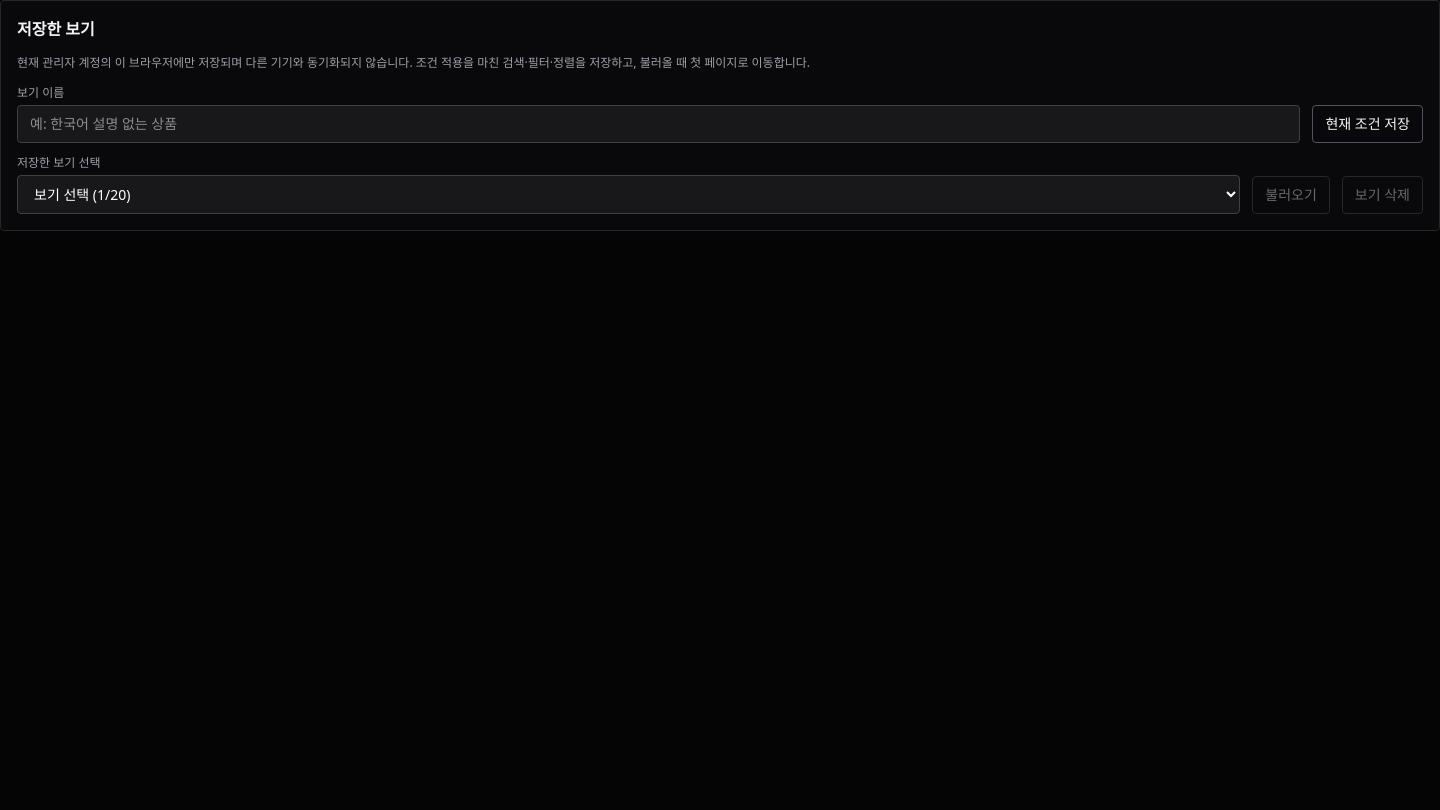
Scenario: named catalog views › closes deletion on Escape and restores the initiating button
Select "Original" in the dropdown labelled "저장한 보기 선택" at (629, 194), box [17,174,1240,214]
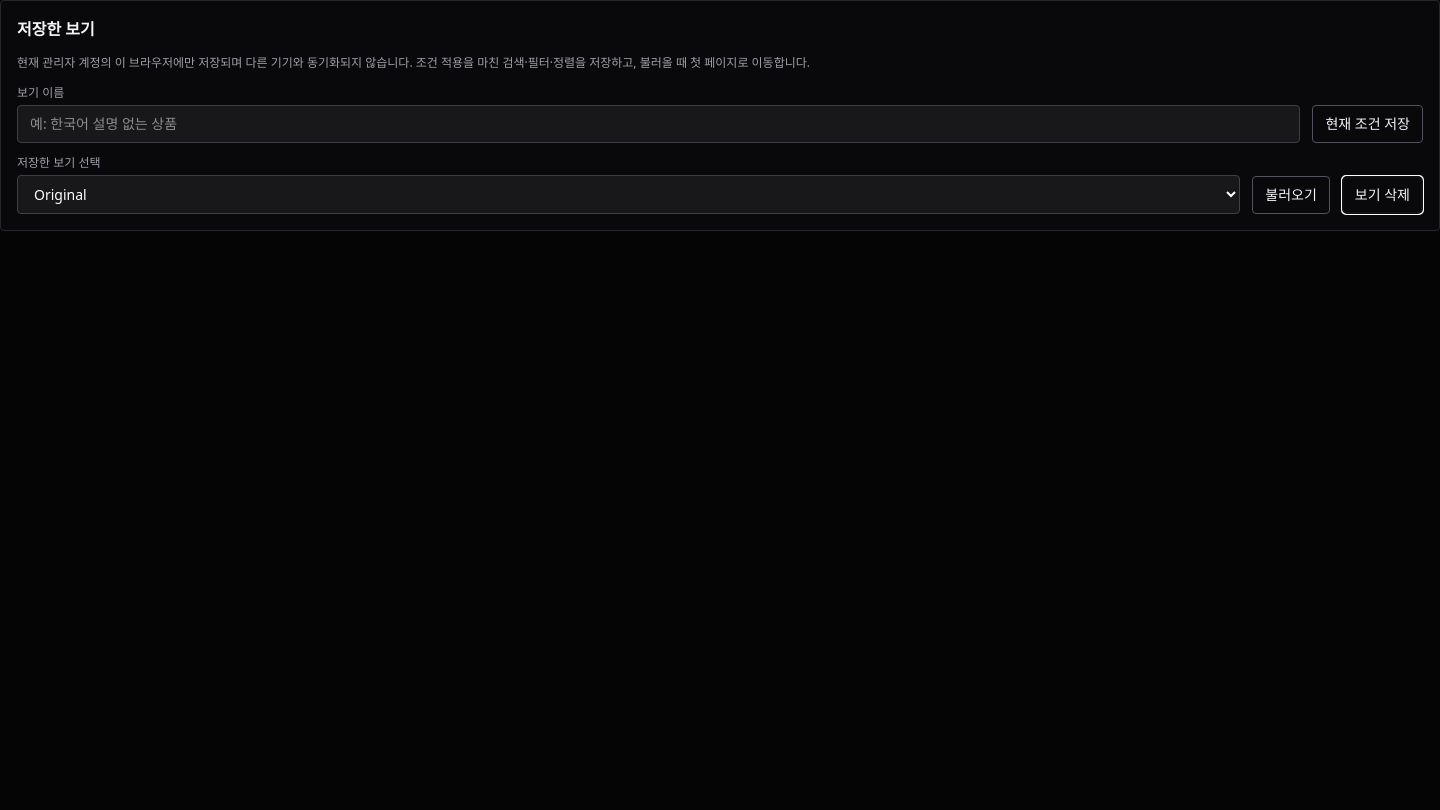
Click the button "보기 삭제" at (1382, 194), box [1342,176,1423,214]
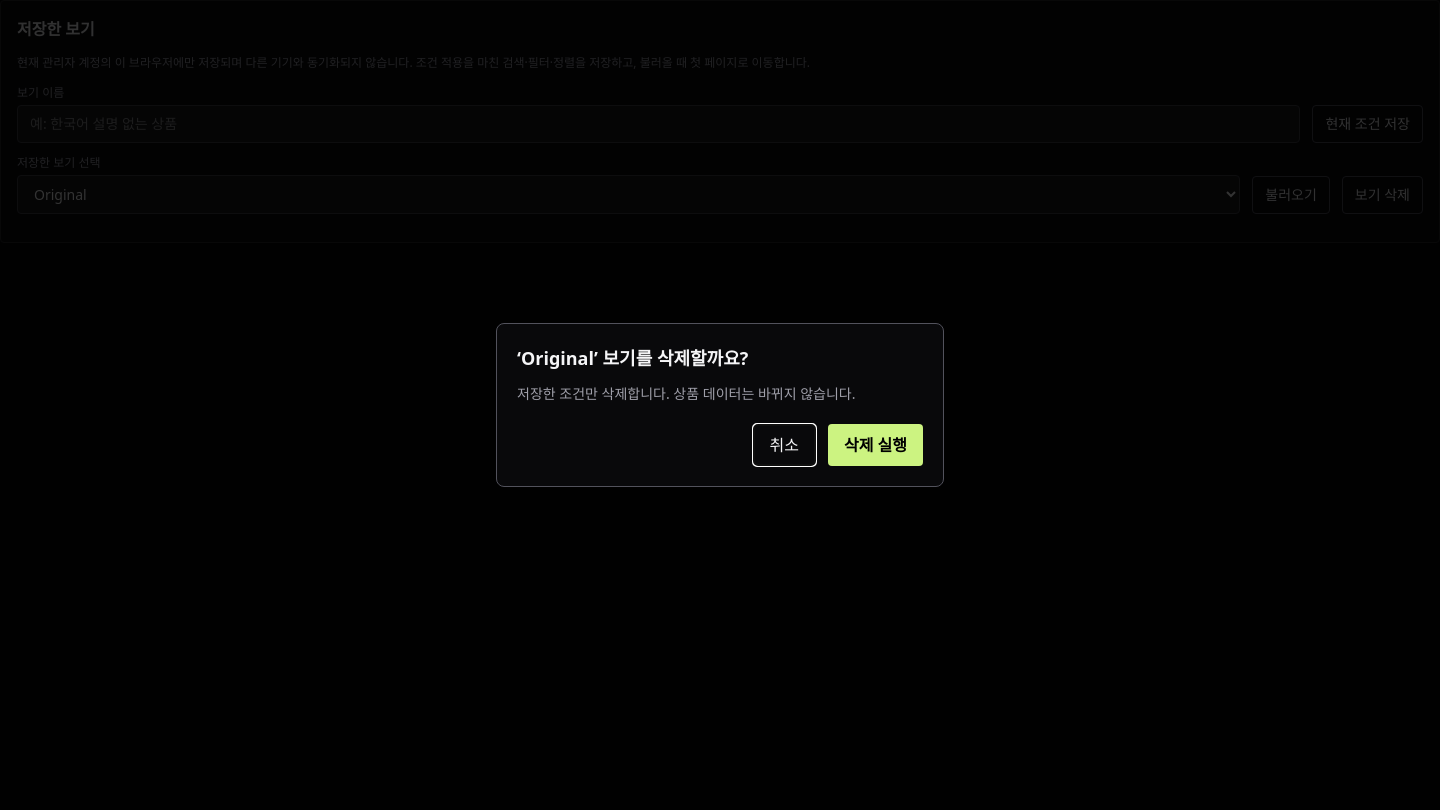
Press Escape in the dialog, box [496,323,944,487]
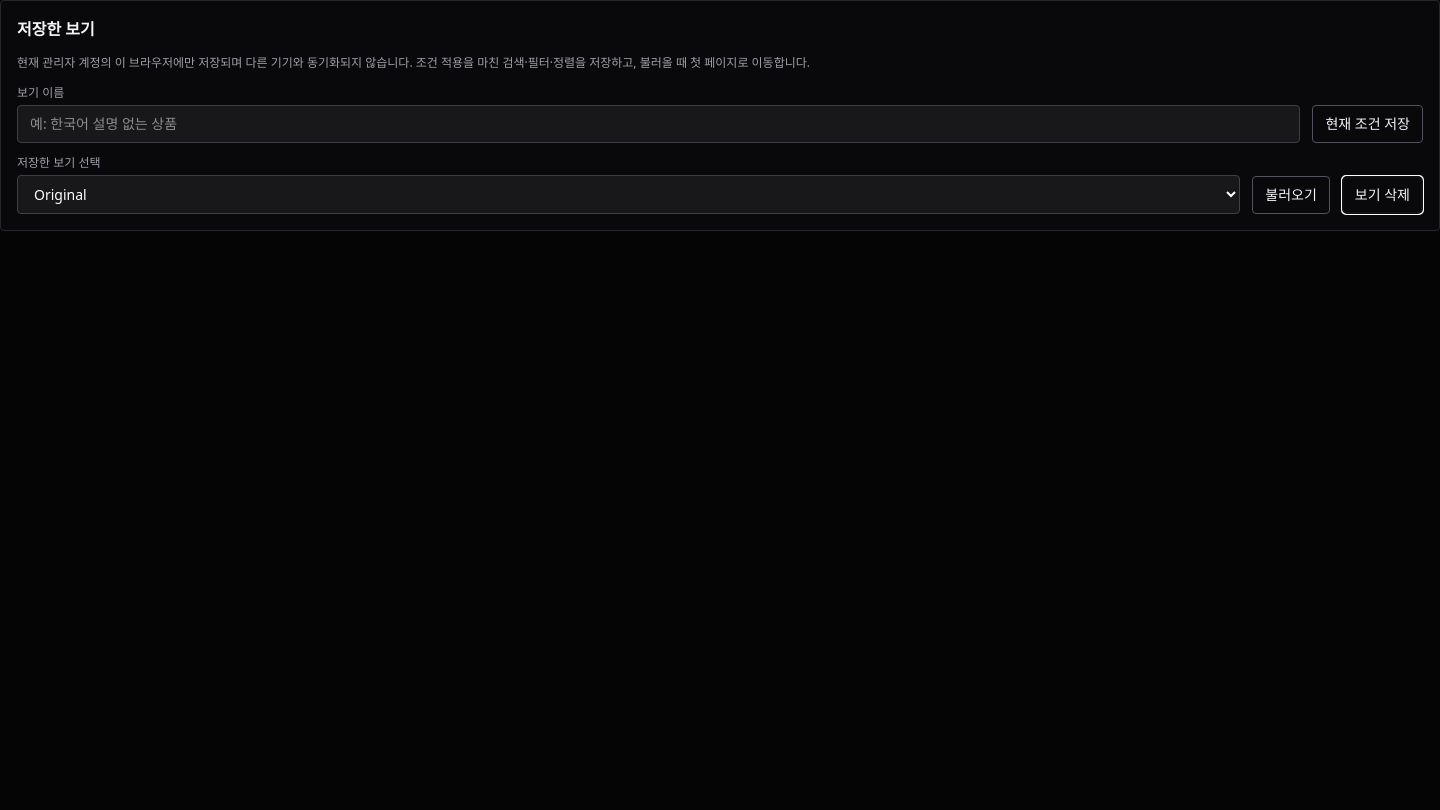
Now the dialog is gone
